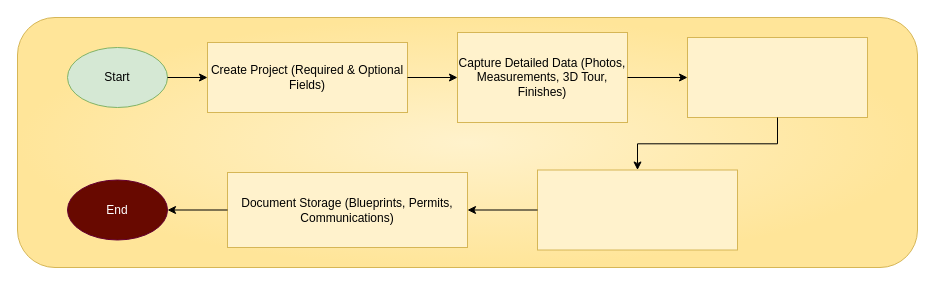
This 935x285 diagram has some shape labels left out. Each missing label, with the centre of its shape:
"Financial Overview (Real-Time Budget, Expenses, Profit)" belongs at point (637, 209).
"Link Vendors and Add Notes" belongs at point (777, 77).
